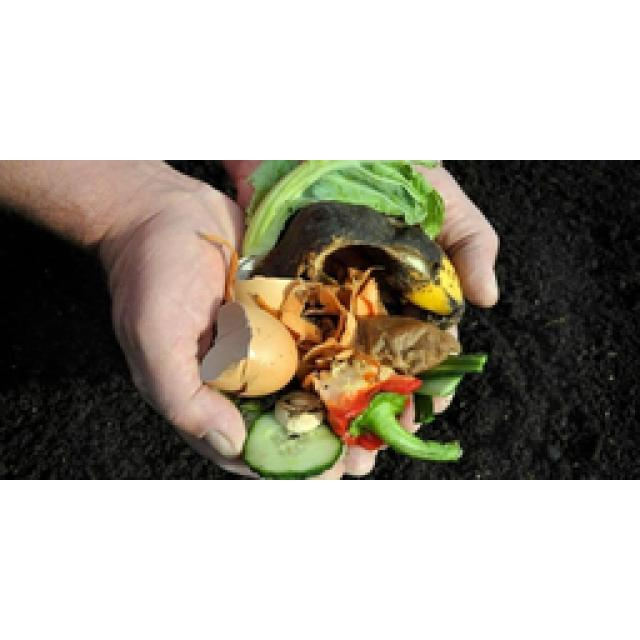food_waste: (200, 160, 485, 478)
